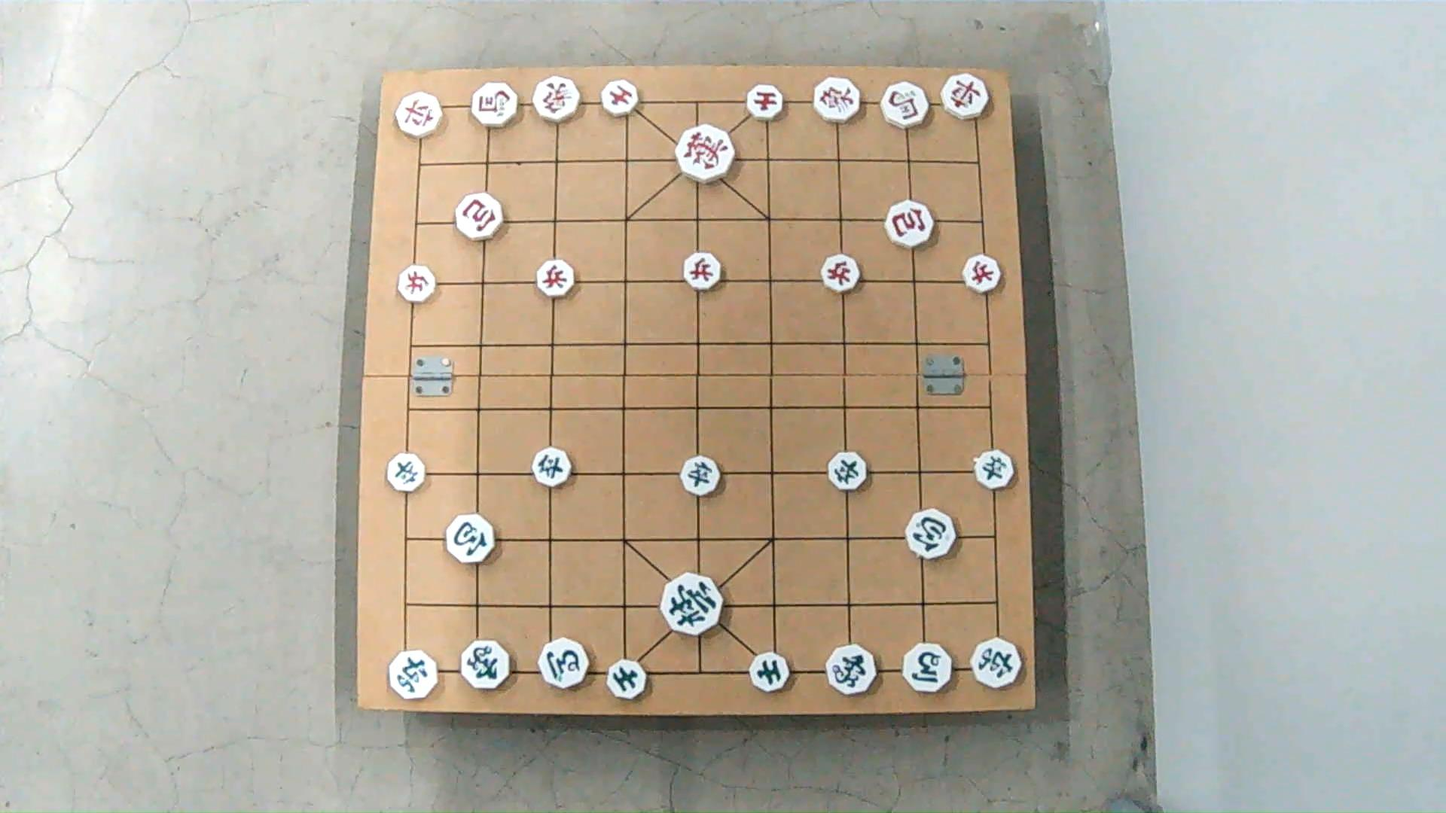cha_green: (971, 638, 1022, 690), (389, 653, 441, 699)
cha_red: (940, 76, 993, 119), (395, 93, 446, 136)
jol_green: (973, 453, 1020, 489), (676, 458, 720, 494), (828, 453, 871, 489), (532, 449, 575, 483), (386, 455, 429, 489)
jol_red: (535, 262, 578, 297), (682, 254, 723, 289), (819, 258, 861, 292), (962, 257, 1004, 291), (398, 267, 440, 301)
ma_green: (901, 644, 956, 693), (538, 642, 591, 690)
ma_red: (471, 83, 523, 128), (880, 84, 932, 126)
po_green: (904, 513, 956, 558), (445, 518, 496, 562)
po_red: (885, 205, 938, 247), (454, 198, 505, 239)
sa_green: (746, 654, 793, 692), (605, 658, 648, 696)
sa_red: (602, 82, 644, 114), (743, 87, 785, 118)
sang_green: (824, 644, 879, 696), (462, 640, 512, 688)
sang_red: (811, 79, 864, 121), (532, 78, 582, 121)
wang_green: (660, 580, 724, 635)
wang_red: (677, 128, 737, 179)
